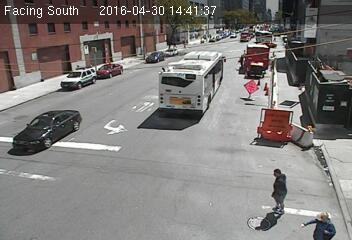neg: (247, 43, 269, 72), (108, 49, 127, 75), (56, 98, 75, 122), (183, 56, 201, 80)
pos: (258, 166, 292, 211), (308, 208, 332, 239)
